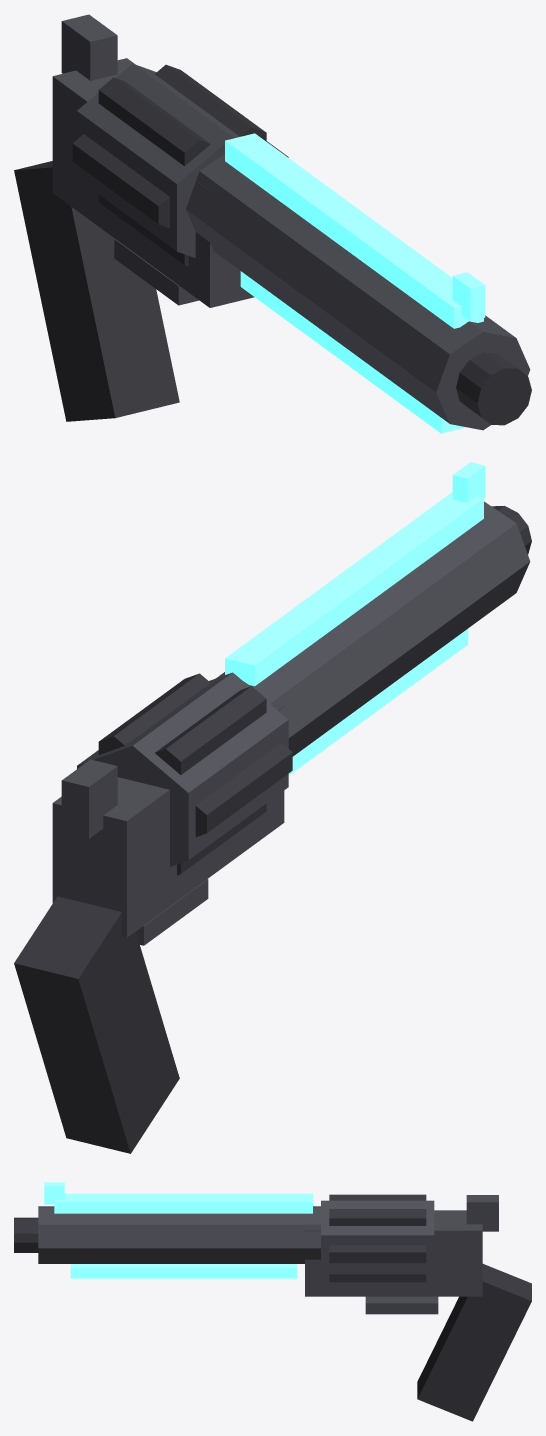
File: revolver.glb
The picture shows the model from 3 angles, top to bottom: view 1: azimuth 30°, elevation 25°; view 2: azimuth 150°, elevation 25°; view 3: azimuth 270°, elevation 25°; orthographic projection. The views are drawn at different scales.
Visible parts, largest first — view 1: PiercerRevolver; view 2: PiercerRevolver; view 3: PiercerRevolver.
Part boxes in pixels (bbox=[...]): PiercerRevolver: bbox=[14, 14, 531, 433]; PiercerRevolver: bbox=[14, 462, 531, 1153]; PiercerRevolver: bbox=[14, 1182, 531, 1421].
Size of the model in its own units: 0.1082 by 0.312 by 0.6409.
